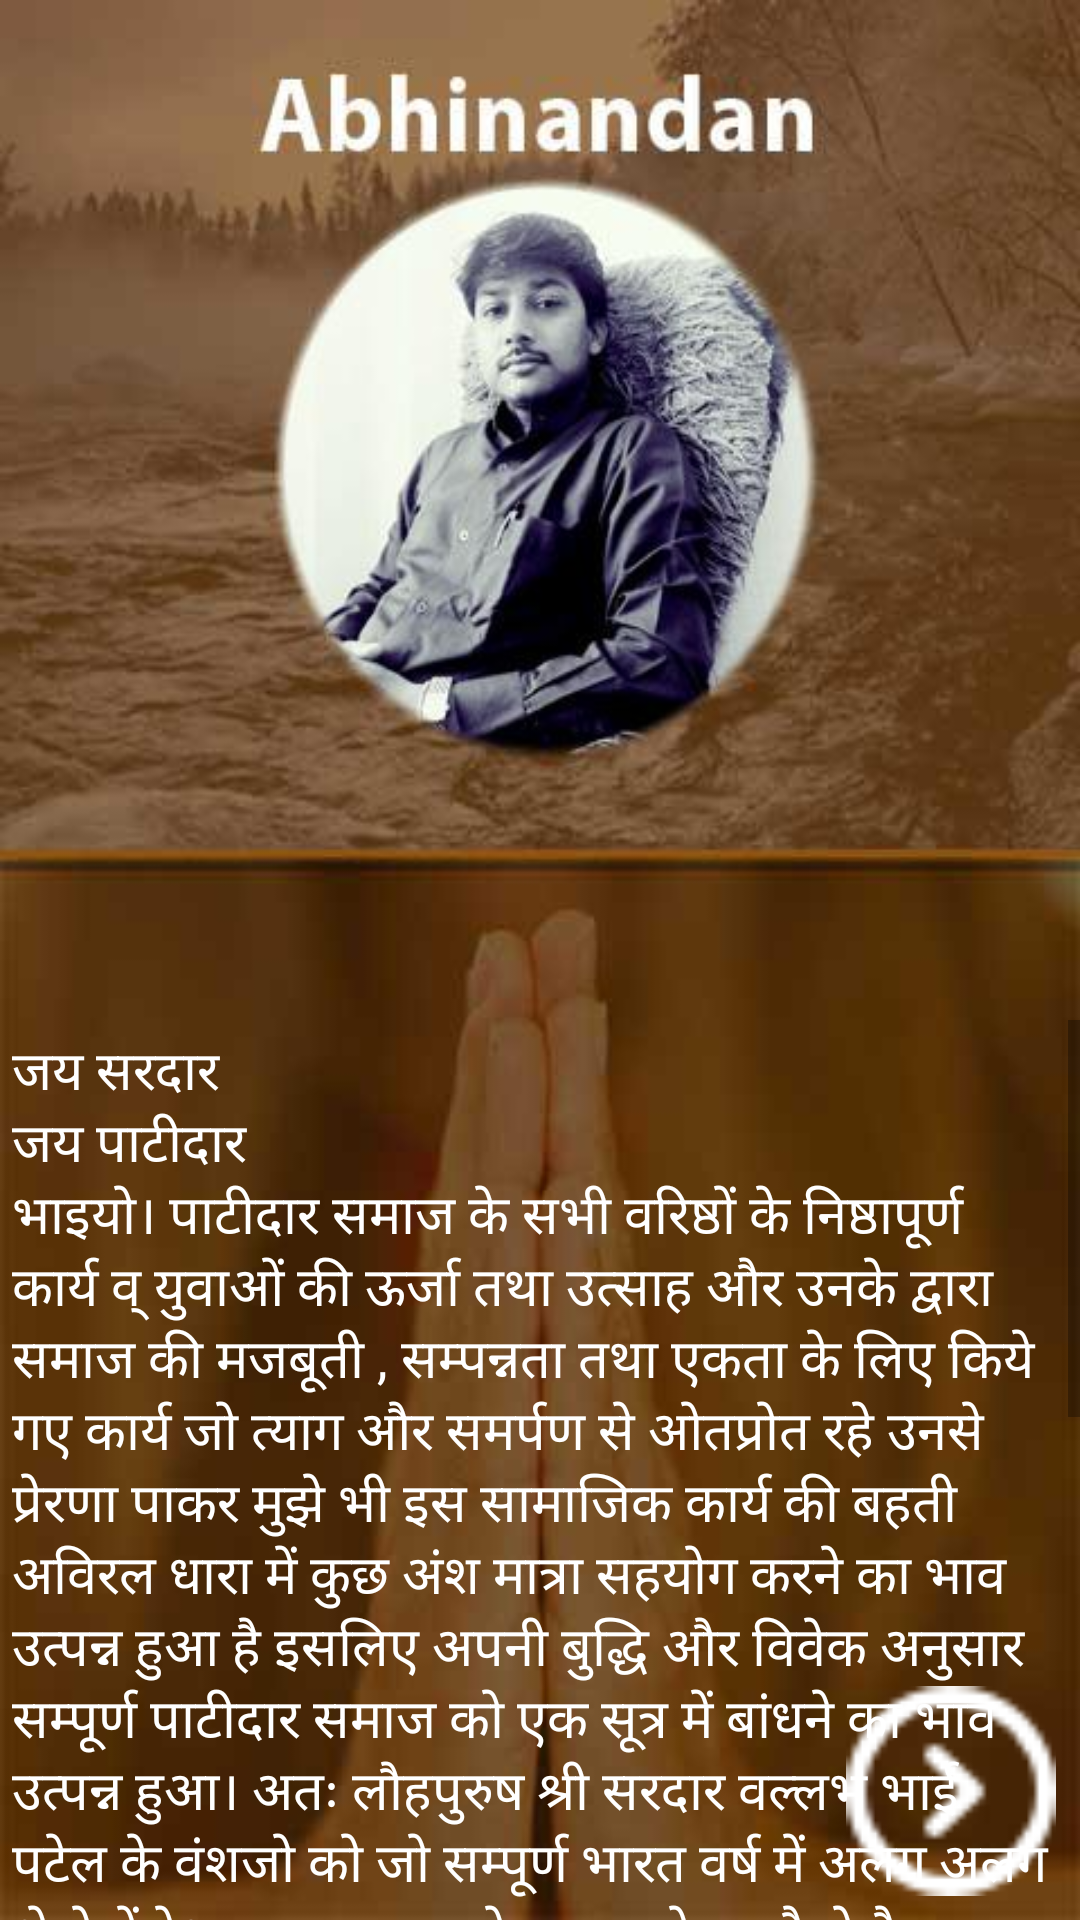

Screen size 1080w x 1920h. Icon name, then its center in pixels as [x,y]:
right arrow: [951,1791]
